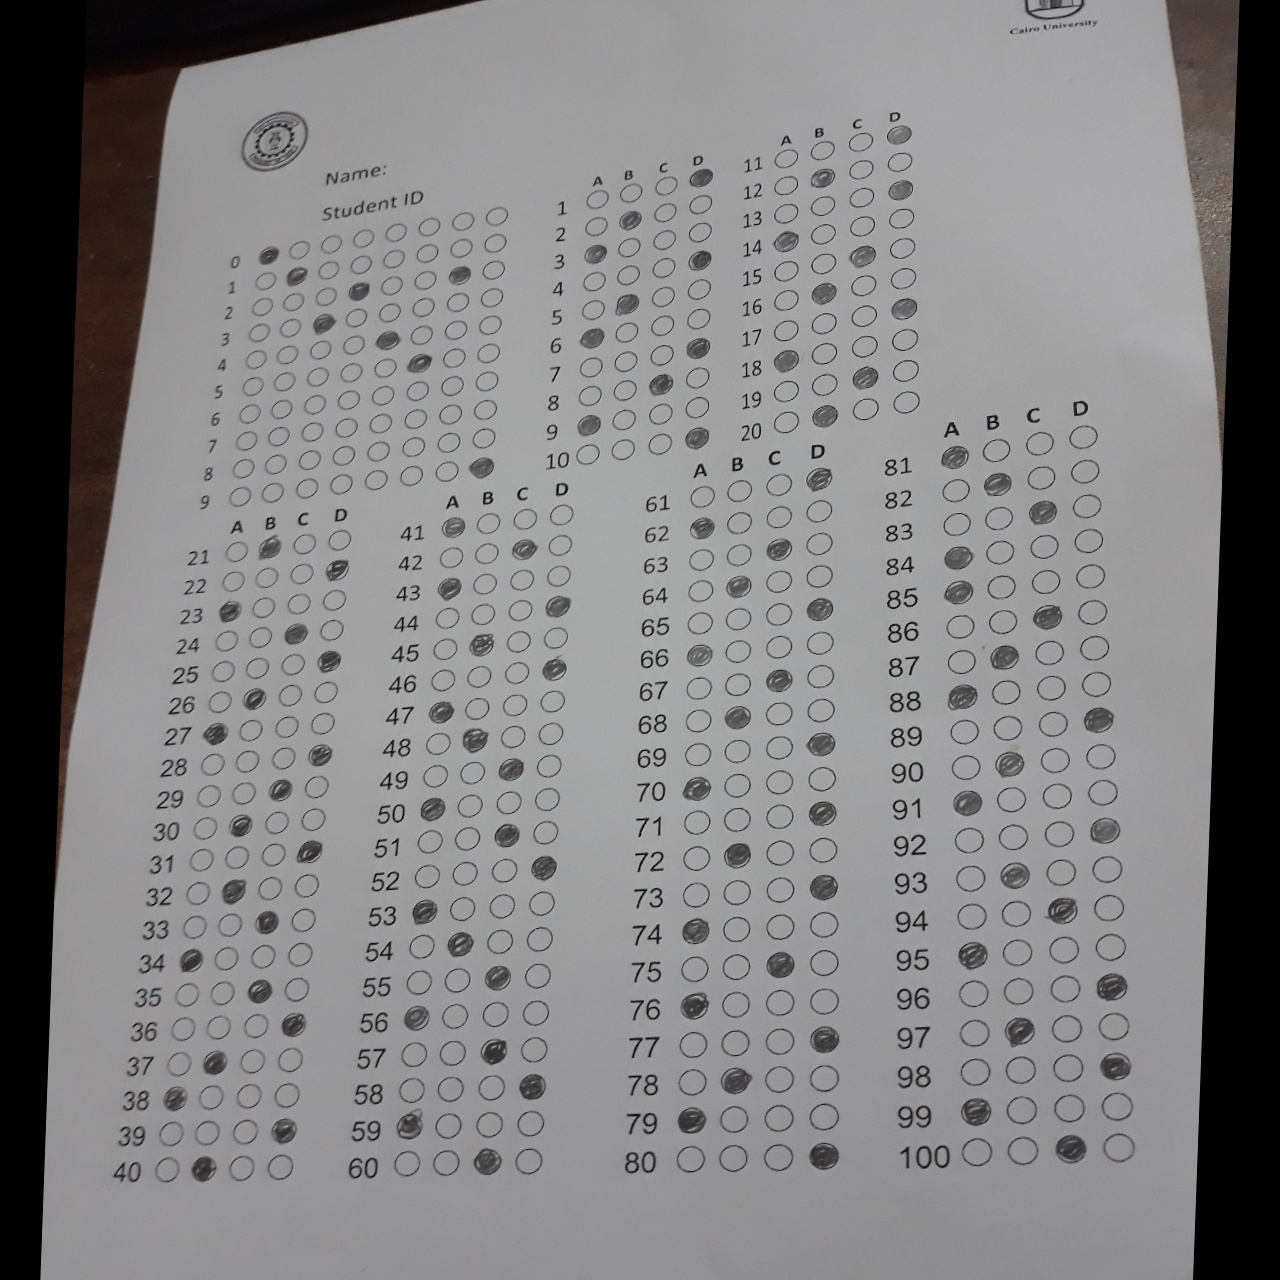not-c: (720, 952, 755, 981), (1048, 974, 1083, 1003), (1044, 934, 1080, 964), (995, 821, 1030, 850), (947, 753, 982, 782), (1075, 597, 1110, 626), (1065, 423, 1101, 452), (939, 475, 974, 504), (719, 878, 753, 907), (678, 879, 712, 908), (806, 986, 840, 1015), (675, 1067, 709, 1096), (762, 1101, 796, 1130), (764, 1063, 798, 1092), (763, 1026, 797, 1055), (959, 1136, 993, 1165), (1005, 1096, 1039, 1125), (1003, 1055, 1037, 1084), (1049, 1013, 1083, 1042), (956, 978, 990, 1007), (951, 825, 985, 855), (994, 784, 1028, 813), (1082, 740, 1116, 769), (949, 716, 983, 745), (946, 648, 980, 678), (983, 607, 1017, 636), (1030, 636, 1064, 666), (1075, 632, 1109, 661), (719, 1030, 754, 1058), (716, 1107, 751, 1135), (1005, 1135, 1040, 1163), (1102, 1133, 1137, 1162), (1049, 1051, 1084, 1080), (1096, 1010, 1131, 1039), (1043, 858, 1078, 886), (1000, 901, 1035, 930), (955, 901, 990, 930), (989, 713, 1024, 741), (1036, 708, 1071, 736), (945, 611, 980, 639), (1028, 567, 1063, 595), (983, 574, 1019, 602), (981, 502, 1016, 530), (678, 955, 712, 983), (804, 910, 838, 938), (806, 948, 840, 976), (809, 1101, 843, 1129), (808, 1063, 842, 1091), (716, 1145, 750, 1173), (674, 1146, 708, 1175), (1102, 1092, 1136, 1121), (960, 1057, 994, 1085), (1092, 931, 1126, 959), (955, 1017, 989, 1046), (954, 863, 988, 891), (1084, 778, 1118, 806), (1039, 781, 1073, 809), (1037, 745, 1071, 774), (1078, 672, 1112, 700), (989, 676, 1023, 704), (1073, 561, 1107, 590), (1024, 533, 1058, 561), (1071, 524, 1105, 552), (1068, 456, 1102, 484), (1024, 428, 1058, 456), (980, 435, 1014, 463), (939, 508, 973, 536), (1024, 462, 1058, 490), (762, 912, 797, 939), (761, 988, 796, 1015), (716, 990, 751, 1017), (1002, 978, 1037, 1005), (1092, 893, 1128, 920), (1070, 493, 1105, 520), (685, 577, 716, 606), (433, 1074, 465, 1102), (399, 1040, 431, 1068), (207, 944, 241, 971), (425, 666, 459, 693), (806, 836, 840, 863), (721, 915, 755, 942), (678, 1030, 712, 1057), (762, 1142, 796, 1169), (1053, 1094, 1087, 1121), (1000, 938, 1034, 965), (1089, 855, 1123, 881), (1042, 821, 1076, 847), (1035, 674, 1069, 701), (985, 537, 1019, 564), (762, 566, 794, 594), (240, 654, 273, 681), (195, 750, 227, 777), (444, 896, 477, 922), (448, 859, 481, 886), (414, 828, 447, 855), (495, 787, 527, 813), (418, 761, 451, 788), (495, 723, 527, 750), (505, 627, 538, 654), (508, 564, 540, 591), (434, 544, 467, 571), (680, 843, 713, 870), (682, 806, 713, 835), (248, 592, 280, 619), (206, 656, 238, 683), (203, 687, 234, 714), (277, 651, 308, 678), (311, 678, 342, 704), (231, 745, 263, 772), (300, 772, 332, 799), (261, 808, 293, 835), (285, 941, 316, 968), (183, 879, 215, 906), (239, 1012, 271, 1039), (275, 1046, 307, 1073), (225, 1153, 257, 1180), (190, 1119, 222, 1146), (433, 1112, 464, 1139), (396, 1076, 428, 1103), (436, 1039, 468, 1065), (525, 888, 557, 915), (455, 792, 486, 819), (457, 760, 489, 787), (459, 695, 491, 722), (499, 692, 531, 719), (535, 753, 566, 779), (463, 662, 495, 689), (505, 595, 537, 622), (543, 563, 574, 590), (544, 531, 576, 558), (722, 476, 754, 503), (762, 472, 794, 499), (803, 496, 835, 523), (803, 527, 835, 554), (723, 511, 755, 538), (763, 599, 795, 626), (721, 670, 753, 697), (804, 629, 836, 656), (803, 663, 835, 690), (764, 767, 796, 794), (765, 803, 797, 830), (762, 838, 794, 865), (243, 625, 275, 651), (207, 628, 240, 654), (166, 1014, 199, 1040), (200, 1015, 233, 1041), (280, 974, 313, 1000), (267, 1152, 300, 1178), (229, 1117, 261, 1143), (474, 1110, 506, 1136), (520, 1000, 553, 1026), (440, 1002, 472, 1028), (452, 824, 485, 850), (527, 819, 560, 845), (536, 720, 568, 745), (430, 636, 463, 662), (799, 563, 832, 588), (253, 564, 284, 591), (275, 680, 306, 707), (273, 712, 304, 738), (192, 783, 223, 810), (178, 912, 209, 939), (172, 981, 203, 1008), (402, 968, 433, 995), (533, 784, 564, 811), (470, 568, 501, 595), (474, 510, 504, 537), (549, 501, 579, 527), (763, 733, 794, 760), (806, 764, 837, 791), (215, 566, 246, 592), (238, 715, 270, 741), (231, 778, 263, 804), (190, 813, 222, 839), (184, 843, 216, 869), (223, 844, 254, 870), (254, 873, 286, 899), (295, 805, 327, 831), (288, 906, 320, 932), (245, 940, 277, 966), (212, 913, 244, 939), (207, 979, 239, 1005), (237, 1047, 268, 1073), (236, 1082, 267, 1108), (154, 1122, 185, 1148), (195, 1083, 226, 1109), (392, 1149, 423, 1175), (433, 1149, 464, 1175), (476, 1074, 508, 1099), (519, 1034, 551, 1060), (442, 968, 474, 994), (406, 932, 437, 958), (485, 928, 517, 954), (523, 926, 554, 952), (411, 865, 443, 891), (422, 731, 454, 757), (535, 689, 566, 715), (501, 659, 532, 685), (540, 625, 572, 651), (509, 505, 540, 531), (687, 484, 719, 510), (764, 503, 796, 529), (722, 542, 754, 567), (687, 545, 719, 571), (724, 606, 756, 632), (685, 610, 716, 635), (763, 634, 795, 660), (804, 695, 836, 721), (680, 741, 712, 767), (720, 772, 751, 798), (722, 806, 754, 832), (309, 712, 340, 737), (268, 744, 299, 770), (259, 840, 290, 866), (293, 871, 324, 897), (273, 1081, 304, 1107), (152, 1157, 183, 1183), (164, 1051, 195, 1077), (512, 1148, 543, 1173), (515, 1110, 545, 1136), (524, 964, 554, 989), (481, 1002, 511, 1028), (484, 892, 515, 918), (491, 857, 522, 883), (429, 604, 459, 629), (465, 601, 496, 627), (472, 540, 503, 566), (683, 675, 714, 701), (722, 638, 753, 663), (764, 701, 795, 727), (723, 736, 754, 762), (682, 707, 713, 733), (764, 877, 795, 903), (809, 251, 838, 275), (810, 340, 839, 365), (572, 441, 601, 465), (685, 305, 714, 329), (579, 268, 608, 293), (475, 311, 504, 335), (443, 290, 472, 314), (314, 230, 343, 254), (326, 527, 355, 552), (318, 617, 347, 641), (887, 237, 915, 261), (887, 265, 915, 290), (772, 257, 801, 281), (474, 340, 502, 365), (472, 367, 501, 392), (438, 373, 467, 397), (445, 234, 474, 259), (885, 149, 914, 172), (808, 138, 837, 162), (808, 222, 837, 245), (849, 185, 878, 209), (808, 373, 837, 396), (851, 334, 880, 358), (576, 382, 605, 406), (611, 349, 640, 373), (611, 379, 640, 402), (647, 343, 676, 367), (646, 314, 675, 338), (648, 284, 678, 307), (613, 264, 642, 287), (481, 229, 510, 252), (477, 284, 506, 307), (442, 318, 471, 341), (413, 239, 442, 263), (433, 401, 462, 424), (470, 399, 499, 422), (365, 440, 394, 463), (399, 434, 428, 457), (331, 415, 360, 438), (335, 360, 365, 383), (333, 386, 362, 409), (379, 246, 408, 270), (347, 253, 376, 277), (311, 284, 340, 307), (305, 338, 334, 361), (258, 483, 287, 506), (275, 315, 305, 339), (278, 290, 307, 313), (282, 237, 312, 260), (231, 428, 260, 451), (230, 456, 259, 479), (320, 587, 349, 611), (286, 561, 315, 585), (282, 591, 312, 614), (610, 408, 636, 433), (241, 346, 268, 370), (771, 173, 799, 197), (772, 200, 801, 224), (846, 158, 874, 182), (887, 205, 915, 229), (850, 273, 878, 297), (810, 311, 838, 334), (772, 318, 801, 341), (772, 379, 801, 402), (849, 304, 877, 327), (683, 395, 712, 418), (576, 354, 604, 377), (685, 278, 713, 301), (685, 365, 713, 388), (617, 234, 645, 258), (617, 181, 645, 204), (584, 188, 612, 211), (482, 204, 510, 227), (440, 345, 468, 368), (447, 211, 475, 234), (408, 294, 436, 318), (400, 407, 428, 430), (468, 425, 496, 449), (433, 459, 461, 483), (362, 467, 390, 490), (338, 334, 366, 358), (340, 305, 368, 328), (377, 300, 406, 324), (381, 220, 409, 244), (315, 257, 343, 280), (299, 418, 327, 442), (295, 447, 324, 470), (294, 478, 322, 502), (245, 293, 273, 316), (237, 374, 265, 397), (234, 402, 263, 425), (890, 328, 919, 350), (647, 402, 676, 424), (413, 215, 442, 237), (413, 267, 442, 290), (436, 431, 465, 454), (326, 471, 355, 493), (327, 444, 356, 467), (368, 383, 397, 406), (348, 226, 377, 248), (302, 365, 332, 387), (266, 424, 295, 447), (265, 399, 294, 421), (271, 342, 300, 365), (243, 321, 272, 343), (226, 485, 256, 508), (772, 409, 799, 433), (651, 254, 678, 278), (481, 258, 508, 281), (406, 380, 433, 403), (771, 145, 799, 168), (847, 213, 876, 236), (850, 397, 878, 420), (890, 389, 918, 411), (891, 359, 919, 381), (644, 431, 672, 454), (579, 298, 607, 320), (612, 321, 640, 343), (651, 226, 679, 248), (685, 220, 713, 243), (581, 215, 610, 237), (685, 193, 713, 216), (652, 173, 680, 196), (409, 321, 437, 343), (399, 464, 427, 486), (380, 274, 408, 297), (302, 392, 331, 414), (263, 452, 291, 475), (272, 369, 300, 392), (252, 267, 280, 290), (223, 539, 251, 561), (290, 532, 318, 554), (847, 131, 874, 154), (808, 193, 835, 216), (772, 290, 799, 312), (610, 438, 636, 461), (651, 200, 678, 223), (366, 411, 393, 434), (372, 355, 399, 377)
taken-c: (1095, 971, 1128, 1001), (949, 788, 983, 817), (1032, 600, 1065, 629), (277, 1009, 309, 1039), (157, 1084, 190, 1114), (515, 1070, 547, 1099), (527, 852, 560, 881), (424, 696, 457, 726), (686, 512, 719, 542), (806, 1023, 839, 1053), (1002, 1016, 1035, 1046), (940, 543, 973, 572), (944, 683, 978, 712), (941, 441, 972, 471), (199, 1046, 231, 1075), (266, 1115, 298, 1144), (433, 573, 464, 602), (761, 533, 792, 563), (685, 641, 716, 670), (763, 949, 795, 979), (809, 871, 840, 900), (960, 1096, 992, 1125), (956, 940, 988, 969), (1089, 816, 1121, 845), (993, 748, 1024, 777), (1080, 704, 1111, 734), (188, 1155, 220, 1183), (496, 753, 529, 781), (467, 629, 499, 658), (436, 513, 469, 542), (762, 663, 795, 692), (804, 799, 837, 828), (679, 990, 712, 1019), (719, 1064, 751, 1092), (1047, 896, 1080, 924), (986, 642, 1019, 670), (944, 580, 976, 608), (1026, 496, 1058, 524), (979, 468, 1012, 496), (810, 1141, 840, 1170), (244, 976, 275, 1005), (394, 1112, 425, 1141), (401, 1002, 433, 1030), (469, 1146, 501, 1175), (478, 1036, 510, 1064), (484, 964, 516, 992), (445, 928, 477, 956), (408, 899, 440, 927), (492, 821, 524, 849), (418, 794, 450, 822), (539, 654, 571, 682), (722, 572, 754, 600), (721, 703, 753, 731), (680, 774, 712, 802), (721, 840, 753, 869), (804, 729, 836, 757), (678, 915, 709, 944), (678, 1105, 709, 1133), (1054, 1135, 1085, 1163), (996, 862, 1028, 890), (540, 591, 571, 619), (1097, 1051, 1128, 1080), (459, 726, 491, 753), (508, 535, 539, 561), (803, 595, 835, 622), (771, 229, 799, 256), (808, 165, 837, 191), (647, 372, 678, 396), (577, 325, 607, 349), (345, 278, 375, 302), (846, 243, 876, 267), (888, 297, 918, 321), (573, 411, 602, 436), (467, 456, 496, 481), (445, 263, 475, 287), (321, 557, 350, 581), (884, 121, 914, 144), (809, 281, 839, 305), (801, 467, 831, 490), (685, 165, 715, 189), (612, 292, 642, 315), (372, 327, 402, 350), (251, 241, 281, 265), (215, 600, 245, 624), (218, 879, 248, 903), (282, 263, 311, 287), (885, 177, 914, 200), (847, 366, 877, 389), (683, 427, 713, 450), (685, 336, 714, 360), (254, 536, 284, 559), (240, 687, 270, 710), (314, 648, 343, 672), (226, 813, 256, 837), (200, 722, 230, 745), (253, 908, 282, 932), (176, 948, 205, 972), (808, 404, 838, 427), (685, 248, 715, 271), (617, 207, 647, 230), (306, 309, 336, 332), (304, 744, 334, 767), (265, 777, 295, 799), (406, 350, 434, 374), (770, 349, 799, 372), (280, 621, 309, 644), (294, 839, 324, 862), (581, 241, 610, 264)
